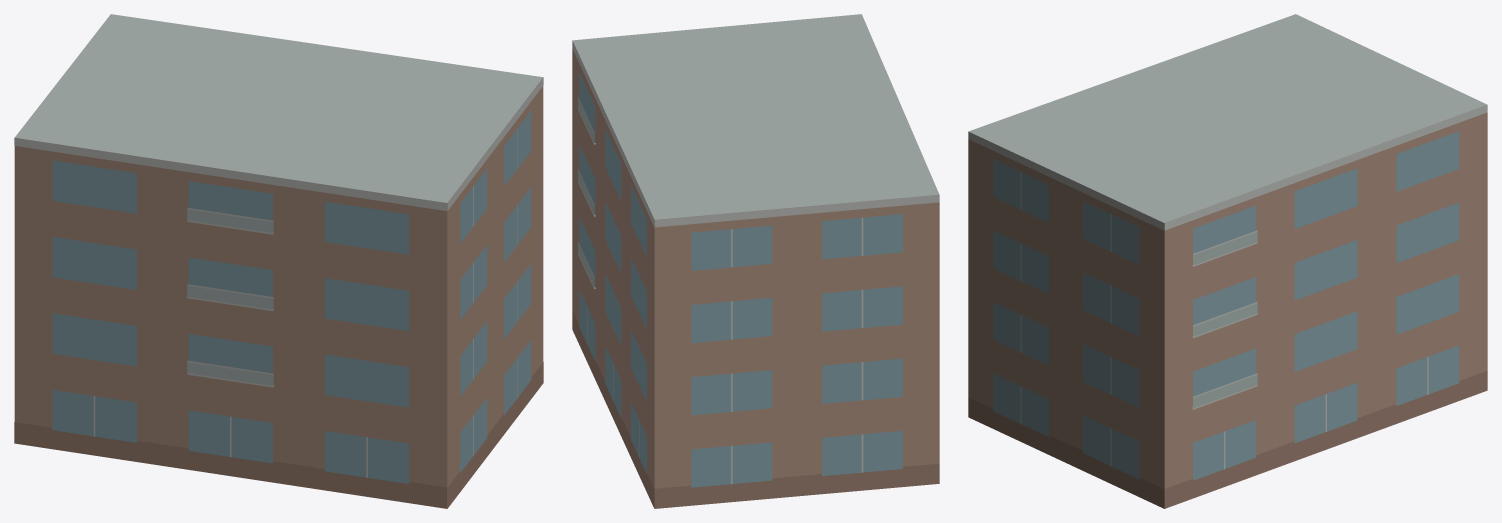
The model's file is survey-upis-32490058.glb.
The picture shows the model from 3 angles, left to right: view 1: azimuth 30°, elevation 25°; view 2: azimuth 150°, elevation 25°; view 3: azimuth 270°, elevation 25°; orthographic projection. The views are drawn at different scales.
Visible parts, largest first — view 1: survey-upis-32490058.tmp; view 2: survey-upis-32490058.tmp; view 3: survey-upis-32490058.tmp.
Part boxes in pixels (<box>): survey-upis-32490058.tmp: <box>14,14,543,508</box>; survey-upis-32490058.tmp: <box>572,14,939,508</box>; survey-upis-32490058.tmp: <box>968,14,1487,508</box>.
Size of the model in its own units: 14.45 by 9.2 by 15.16.
